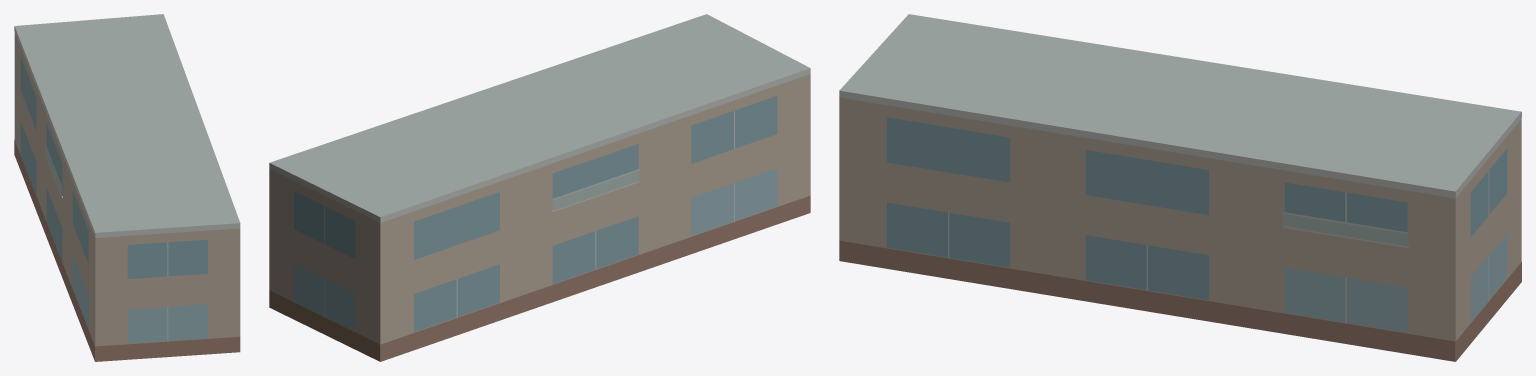
File: survey-upis-32882677.glb
3 renders of one model, left to right at view 1: azimuth 30°, elevation 25°; view 2: azimuth 150°, elevation 25°; view 3: azimuth 270°, elevation 25°, orthographic. The views are drawn at different scales.
Visible parts, largest first — view 1: survey-upis-32882677.tmp; view 2: survey-upis-32882677.tmp; view 3: survey-upis-32882677.tmp.
Boxes of the visible parts, x1,y1,x2,y2 form: survey-upis-32882677.tmp: [14, 14, 240, 361]; survey-upis-32882677.tmp: [269, 14, 810, 361]; survey-upis-32882677.tmp: [839, 14, 1521, 361].
Bounding box in the file's own units: 13.65 × 6.1 × 22.16.
